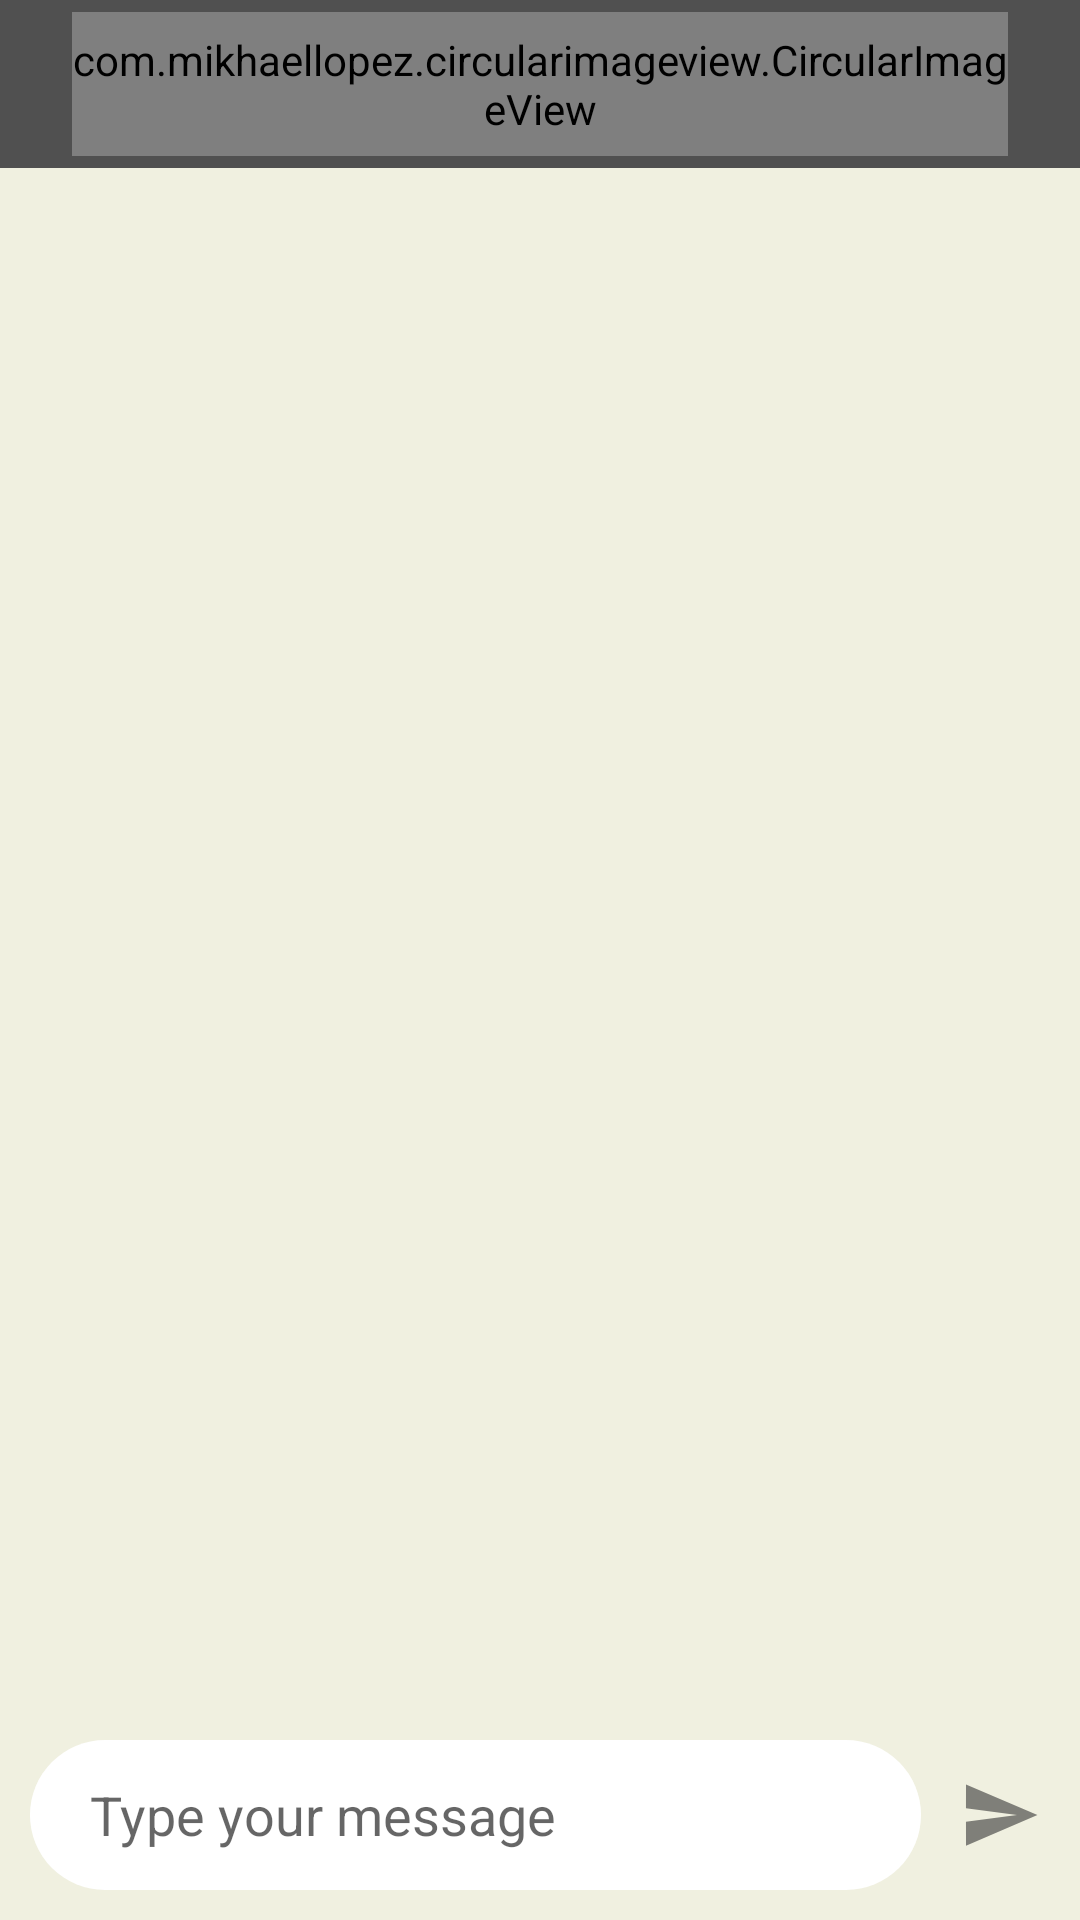

Icons on this 1080px×1920px Android screen, each with its box as (x1, y1, x2, y2):
send: (966, 1784, 1037, 1846)
